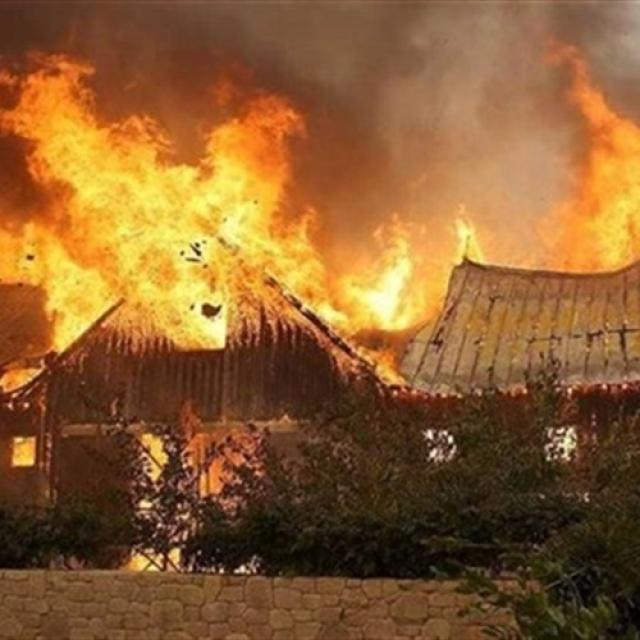Fire: (193, 76, 499, 360), (0, 52, 195, 376), (533, 49, 640, 284)
Smoke: (313, 6, 537, 180)
